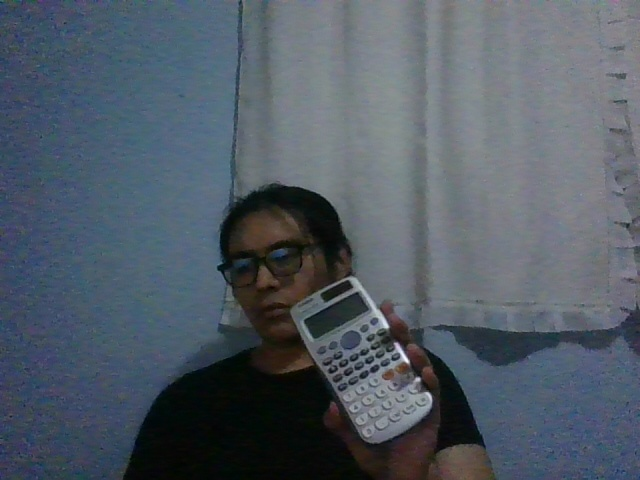calculadora: (290, 276, 435, 446)
